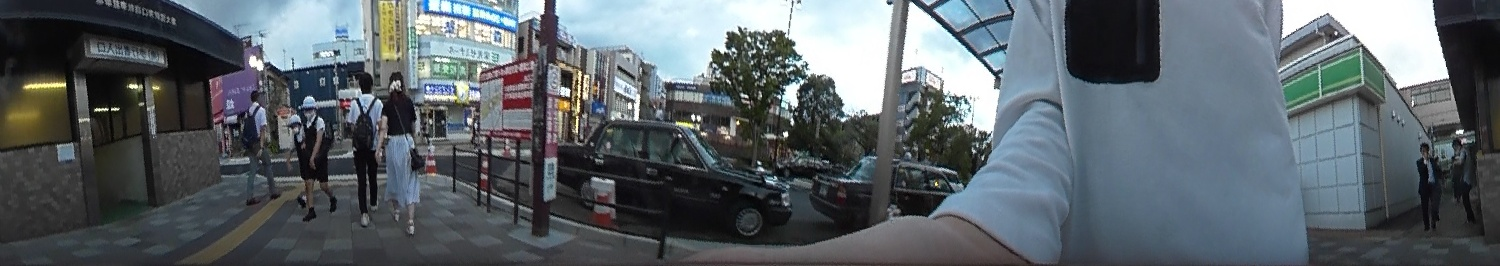person: (373, 68, 428, 235), (339, 68, 382, 231), (232, 85, 284, 203), (297, 86, 340, 220), (1446, 134, 1484, 228), (1415, 140, 1444, 229), (289, 113, 313, 209)
